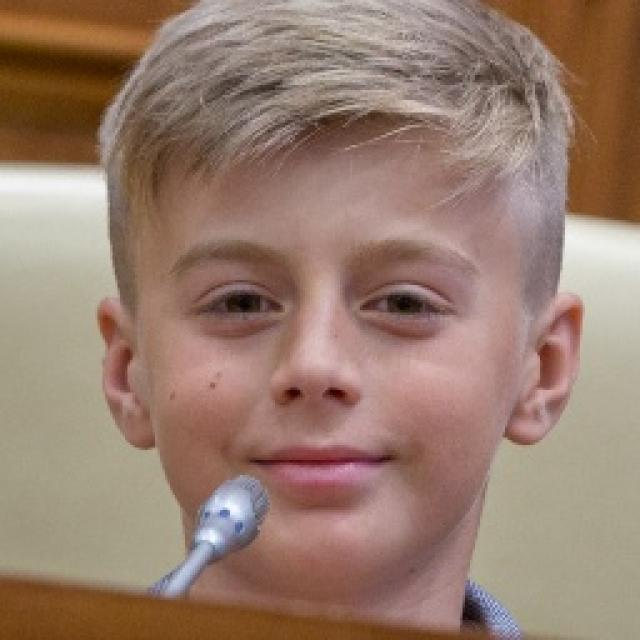earlobe: (505, 291, 587, 448), (94, 295, 160, 451)
